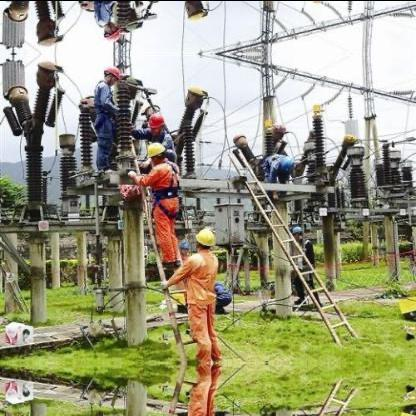Helmet: (192, 226, 216, 251), (145, 136, 165, 164), (144, 109, 166, 133), (100, 64, 120, 86), (100, 18, 120, 40), (290, 224, 304, 240), (178, 238, 190, 256)
